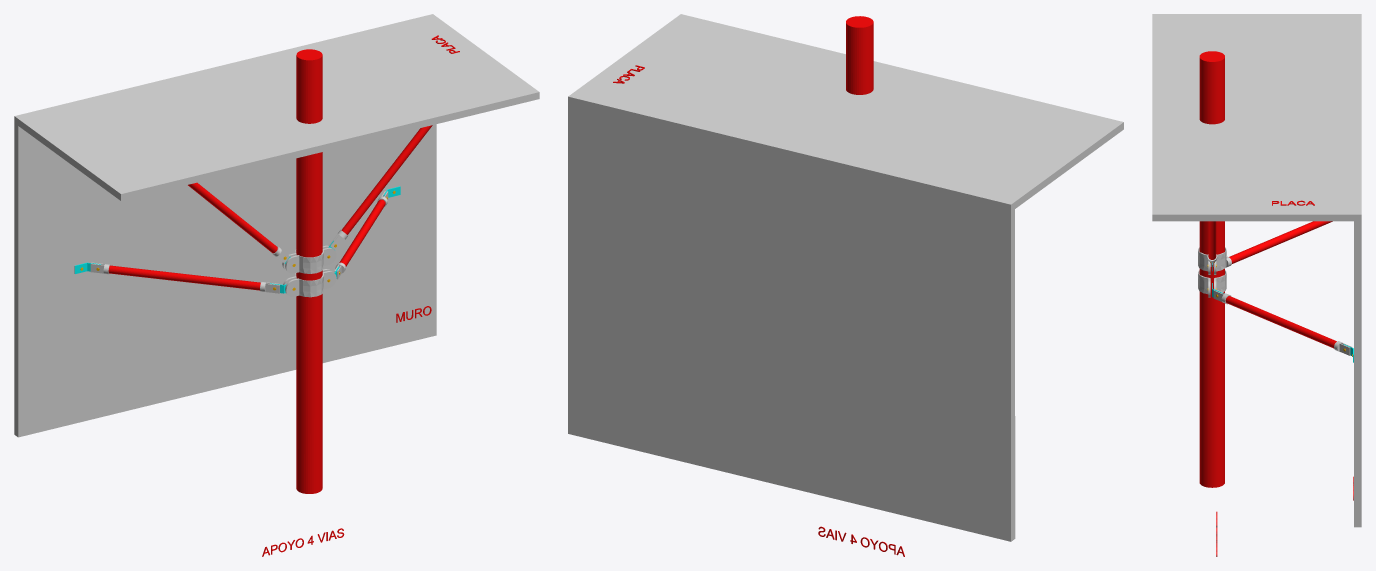
Rendered from soporte_4vias.glb.
The picture shows the model from 3 angles, left to right: view 1: azimuth 30°, elevation 25°; view 2: azimuth 150°, elevation 25°; view 3: azimuth 270°, elevation 25°; orthographic projection. The views are drawn at different scales.
Visible parts, largest first — view 1: Geom3D (×9); view 2: Geom3D (×3); view 3: Geom3D (×6).
Boxes of the visible parts, left/top/right/bottom form: Geom3D (×9): left=14, top=14, right=539, bottom=493; Geom3D (×3): left=568, top=14, right=1123, bottom=541; Geom3D (×6): left=1152, top=14, right=1361, bottom=527.
Bounding box in the file's own units: 1232 × 1386 × 544.
